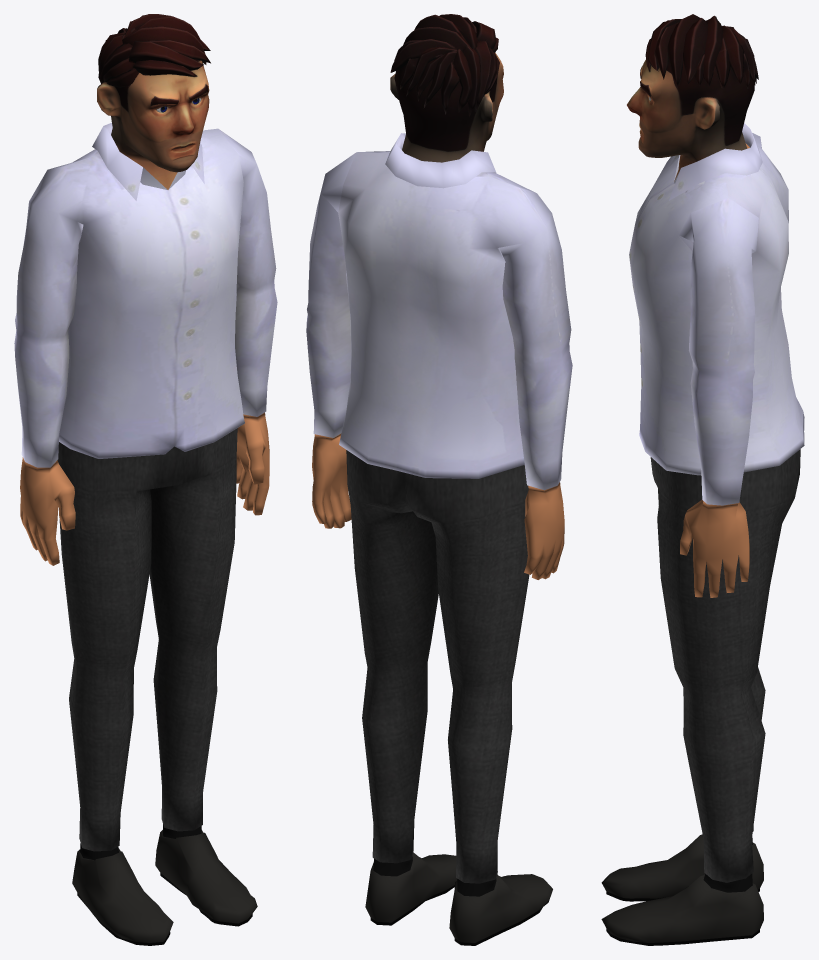
File: person04.glb
The picture shows the model from 3 angles, left to right: view 1: azimuth 30°, elevation 25°; view 2: azimuth 150°, elevation 25°; view 3: azimuth 270°, elevation 25°; orthographic projection.
Visible parts, largest first — view 1: M_lBody_BaseMesh.002; view 2: M_lBody_BaseMesh.002; view 3: M_lBody_BaseMesh.002.
Part boxes in pixels (x1,y1,x2,y2): M_lBody_BaseMesh.002: [14, 14, 277, 945]; M_lBody_BaseMesh.002: [306, 14, 572, 945]; M_lBody_BaseMesh.002: [601, 14, 804, 945].
Bounding box in the file's own units: 0.544 × 1.81 × 0.372.
2 materials, 2 textured.
